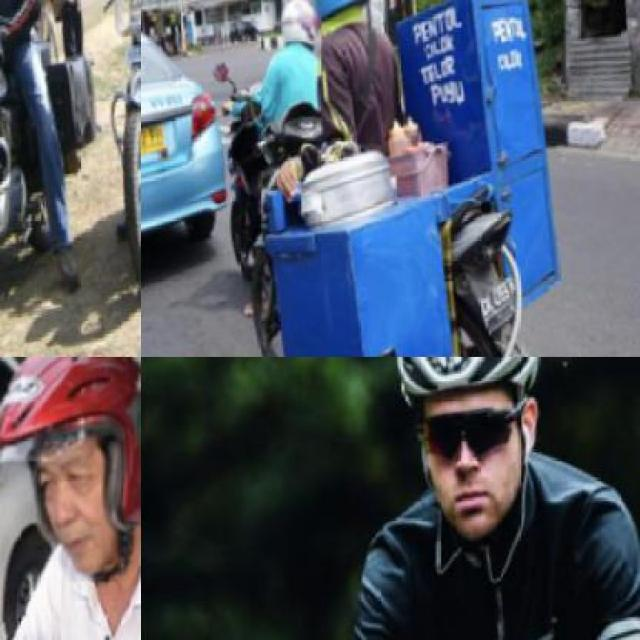With Helmet: (371, 357, 578, 557), (0, 356, 138, 595), (286, 0, 393, 35), (272, 0, 331, 63)
